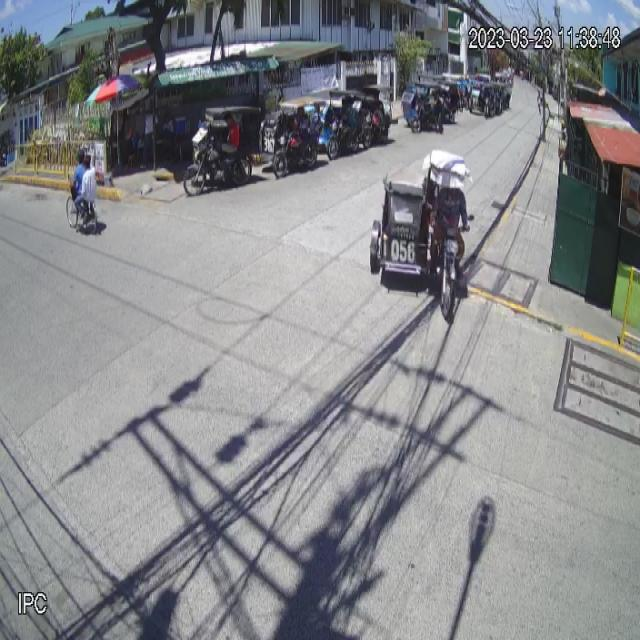Tricycle: (370, 150, 476, 322)
